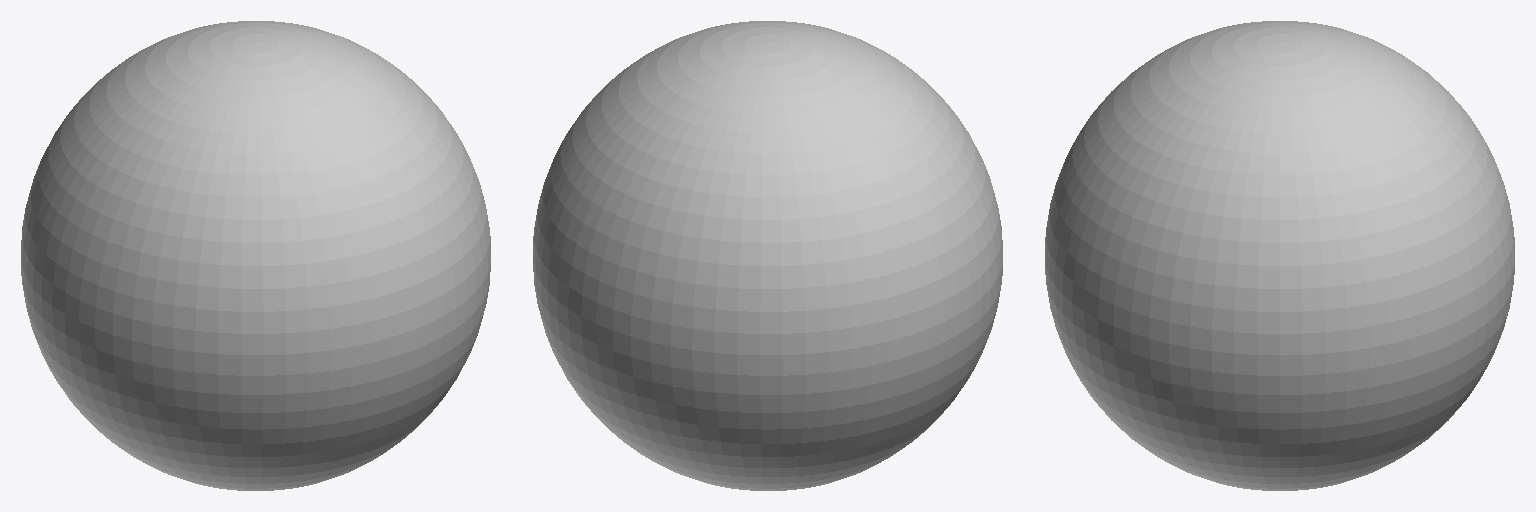
File: earth.obj
3 renders of one model, left to right at view 1: azimuth 30°, elevation 25°; view 2: azimuth 150°, elevation 25°; view 3: azimuth 270°, elevation 25°, orthographic.
Parts seen in each view (by area): view 1: earth; view 2: earth; view 3: earth.
Part boxes in pixels (left/top/right/bottom): earth: left=21, top=21, right=490, bottom=490; earth: left=533, top=21, right=1002, bottom=490; earth: left=1045, top=21, right=1514, bottom=490.
Size of the model in its own units: 682 by 682 by 682.